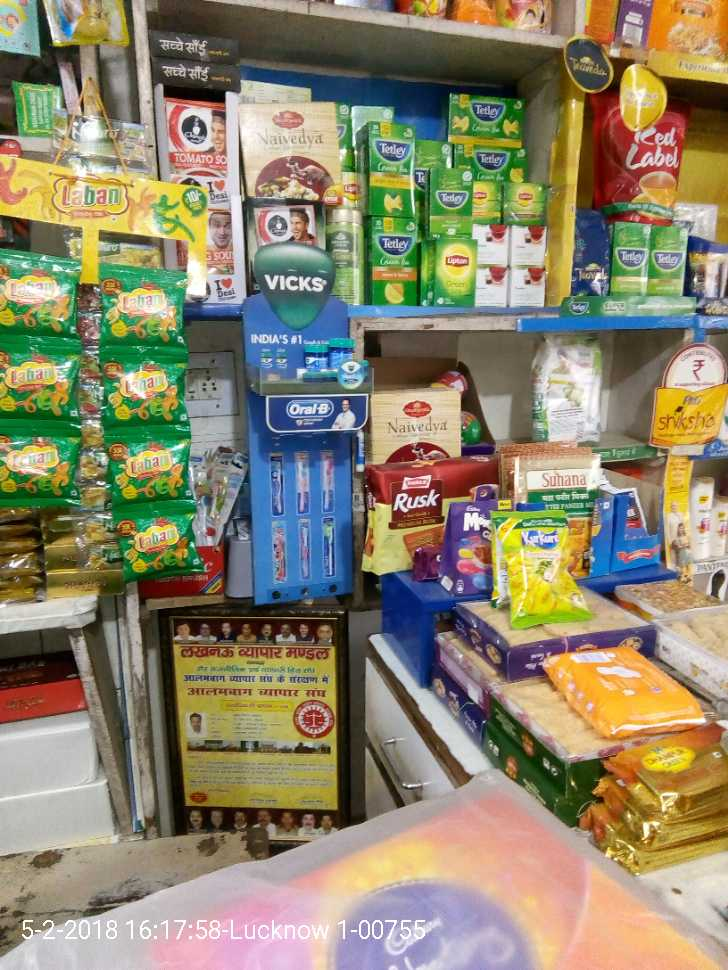vicks: (329, 336, 354, 374), (302, 341, 329, 372)
